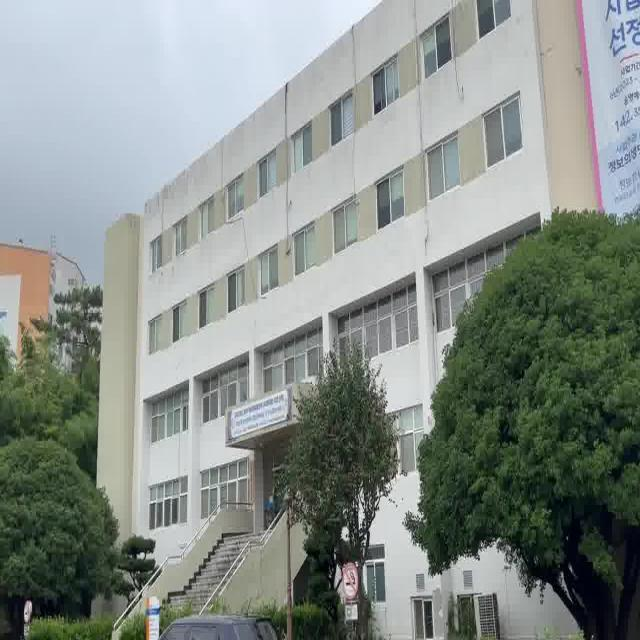building: (123, 36, 439, 352)
